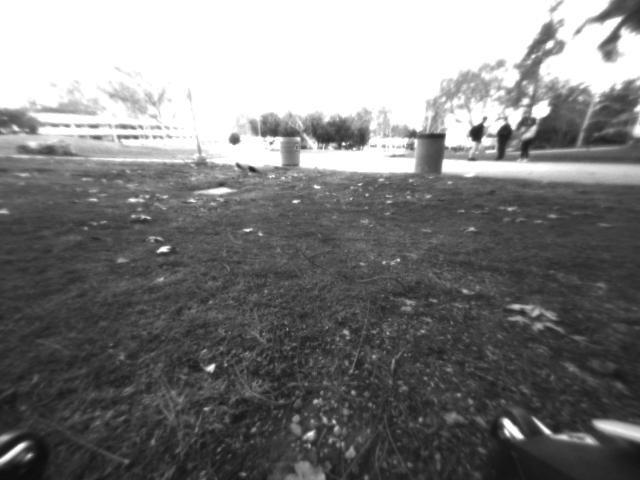trashcan: (411, 132, 442, 177), (279, 134, 305, 166)
